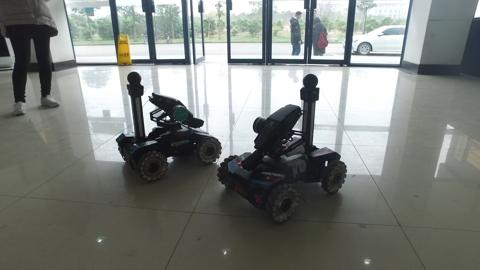chariot: (218, 72, 346, 233), (105, 69, 221, 188)
